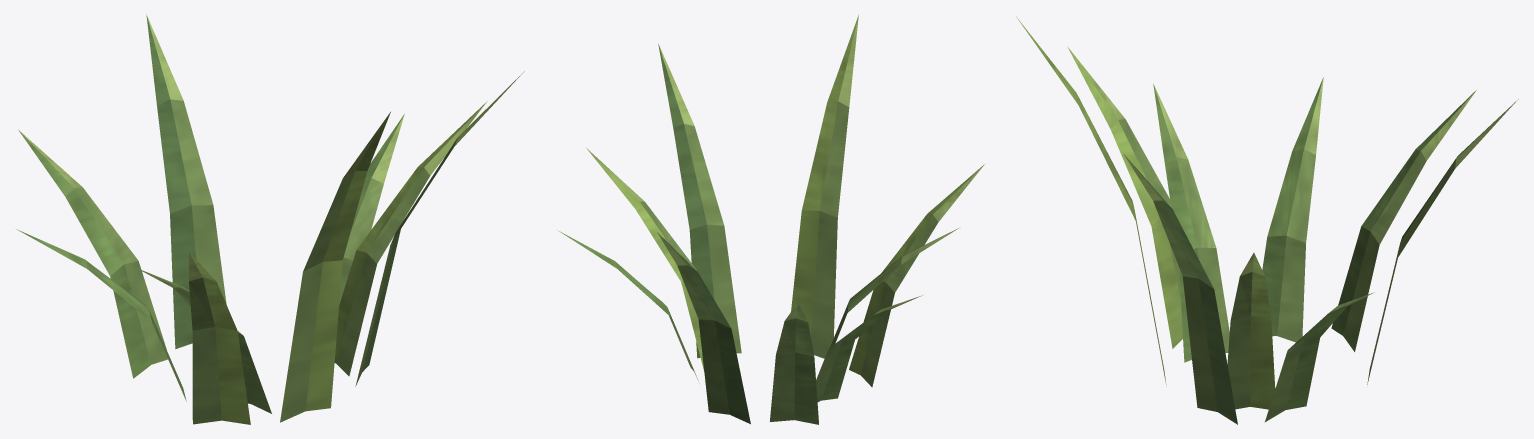
Rendered from grass_clump_short_03.fbx.
3 renders of one model, left to right at view 1: azimuth 30°, elevation 25°; view 2: azimuth 150°, elevation 25°; view 3: azimuth 270°, elevation 25°, orthographic. The views are drawn at different scales.
Visible parts, largest first — view 1: grass_clump_short_03; view 2: grass_clump_short_03; view 3: grass_clump_short_03.
Boxes of the visible parts, x1,y1,x2,y2 form: grass_clump_short_03: (16,14,524,424); grass_clump_short_03: (559,14,984,424); grass_clump_short_03: (1016,16,1518,424).
Bounding box in the file's own units: 56.28 × 43.33 × 54.
Materials: 1 (1 with a texture image).
